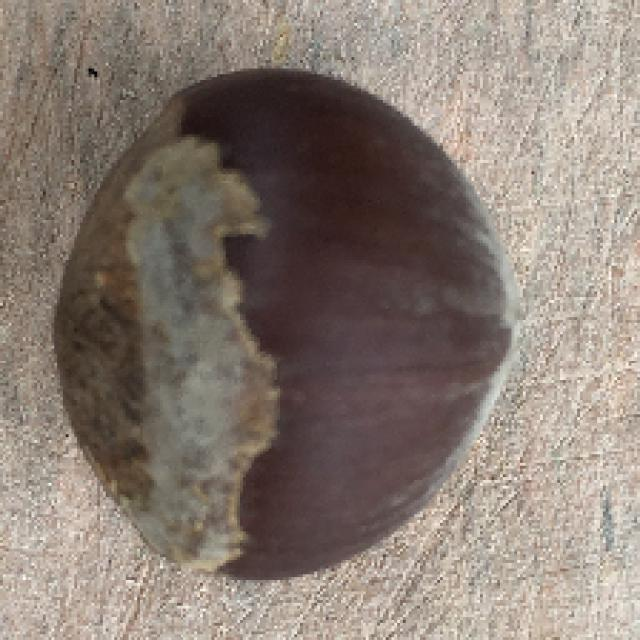damagedHazelnut: (40, 58, 538, 580)
